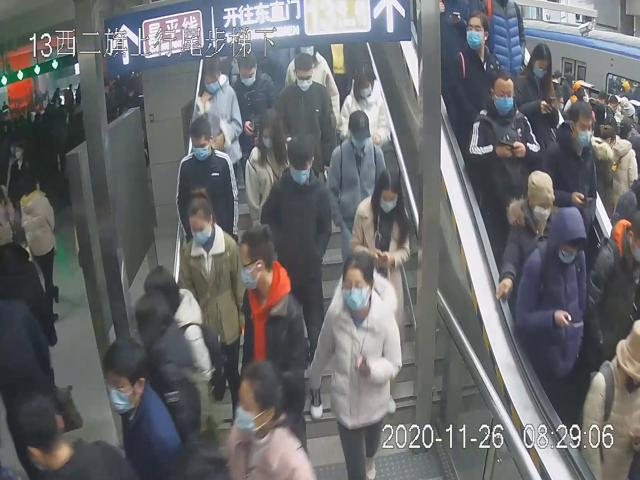person: (307, 243, 403, 480), (230, 220, 311, 451), (259, 129, 332, 351), (177, 183, 247, 410), (464, 70, 540, 230), (348, 164, 408, 347), (325, 110, 390, 264), (174, 113, 241, 247), (277, 51, 336, 180), (445, 12, 501, 136), (192, 46, 243, 178), (334, 48, 392, 153), (248, 109, 298, 210), (229, 45, 277, 127)
